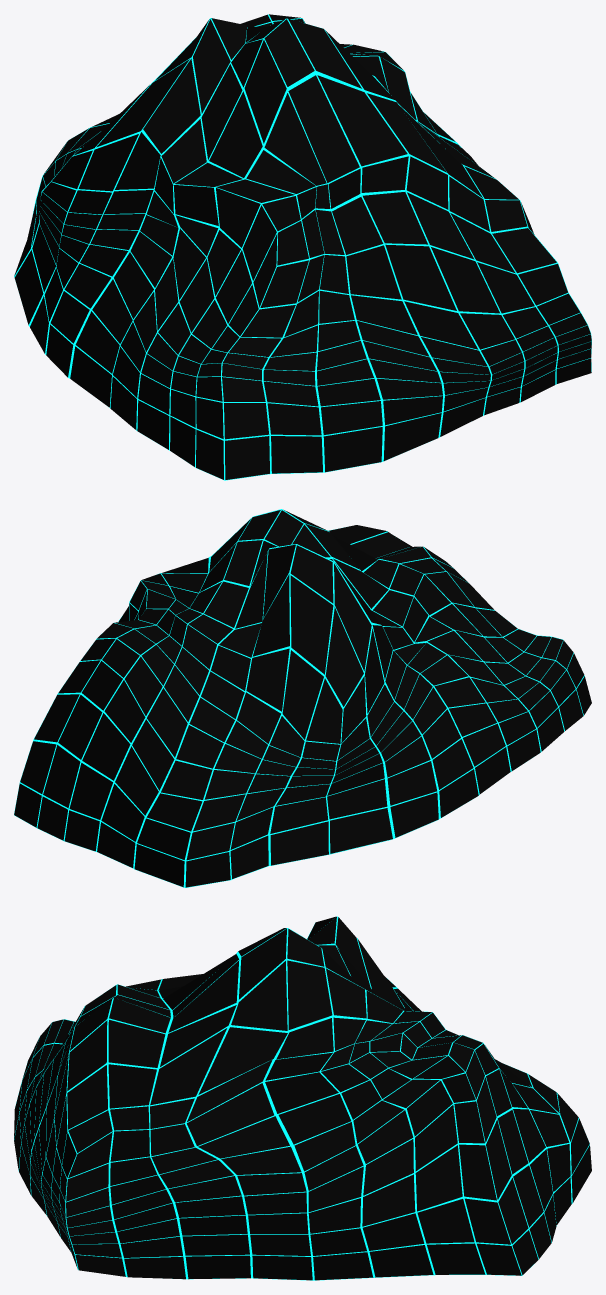
File: mountain.glb
The picture shows the model from 3 angles, top to bottom: view 1: azimuth 30°, elevation 25°; view 2: azimuth 150°, elevation 25°; view 3: azimuth 270°, elevation 25°; orthographic projection. The views are drawn at different scales.
Visible parts, largest first — view 1: Cube; view 2: Cube; view 3: Cube.
Boxes of the visible parts, bbox=[...] form: Cube: bbox=[14, 14, 591, 480]; Cube: bbox=[14, 509, 591, 887]; Cube: bbox=[14, 916, 591, 1280].
Size of the model in its own units: 20.2 by 14.1 by 27.16.
